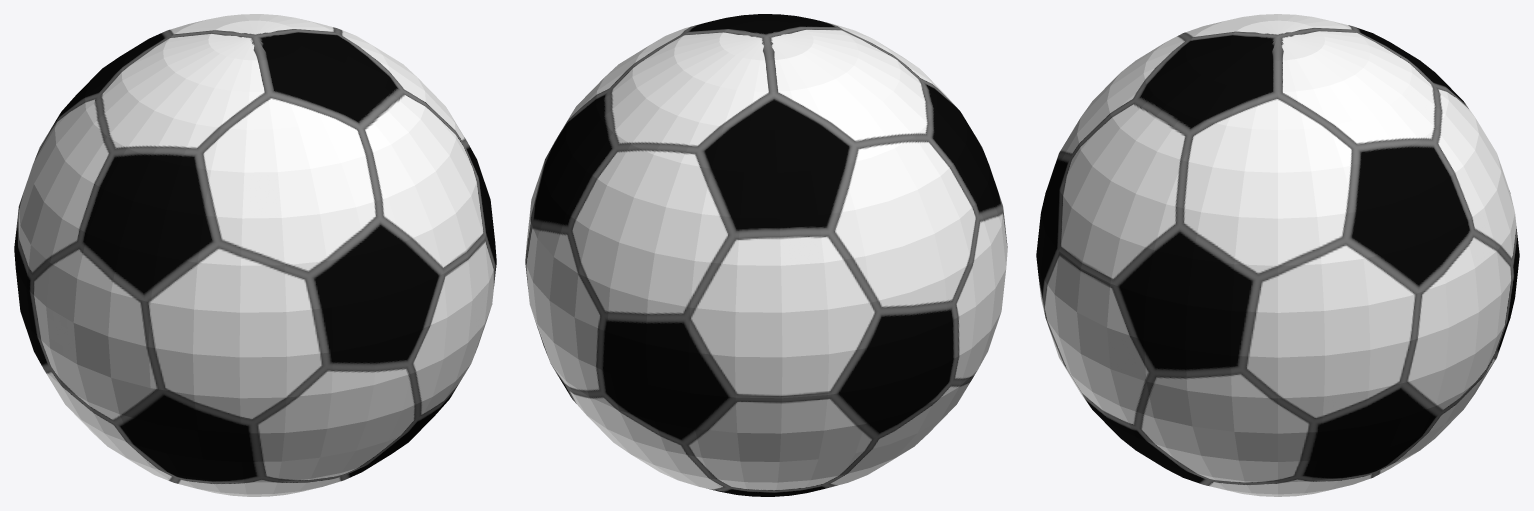
Rendered from spl-ball-9.obj.
The picture shows the model from 3 angles, left to right: view 1: azimuth 30°, elevation 25°; view 2: azimuth 150°, elevation 25°; view 3: azimuth 270°, elevation 25°; orthographic projection.
Parts seen in each view (by area): view 1: Sphere; view 2: Sphere; view 3: Sphere.
Part boxes in pixels (x1,y1,x2,y2): Sphere: (14, 14, 496, 496); Sphere: (525, 14, 1007, 496); Sphere: (1036, 14, 1519, 496).
Bounding box in the file's own units: 2 × 2 × 2.
1 material, 1 textured.
